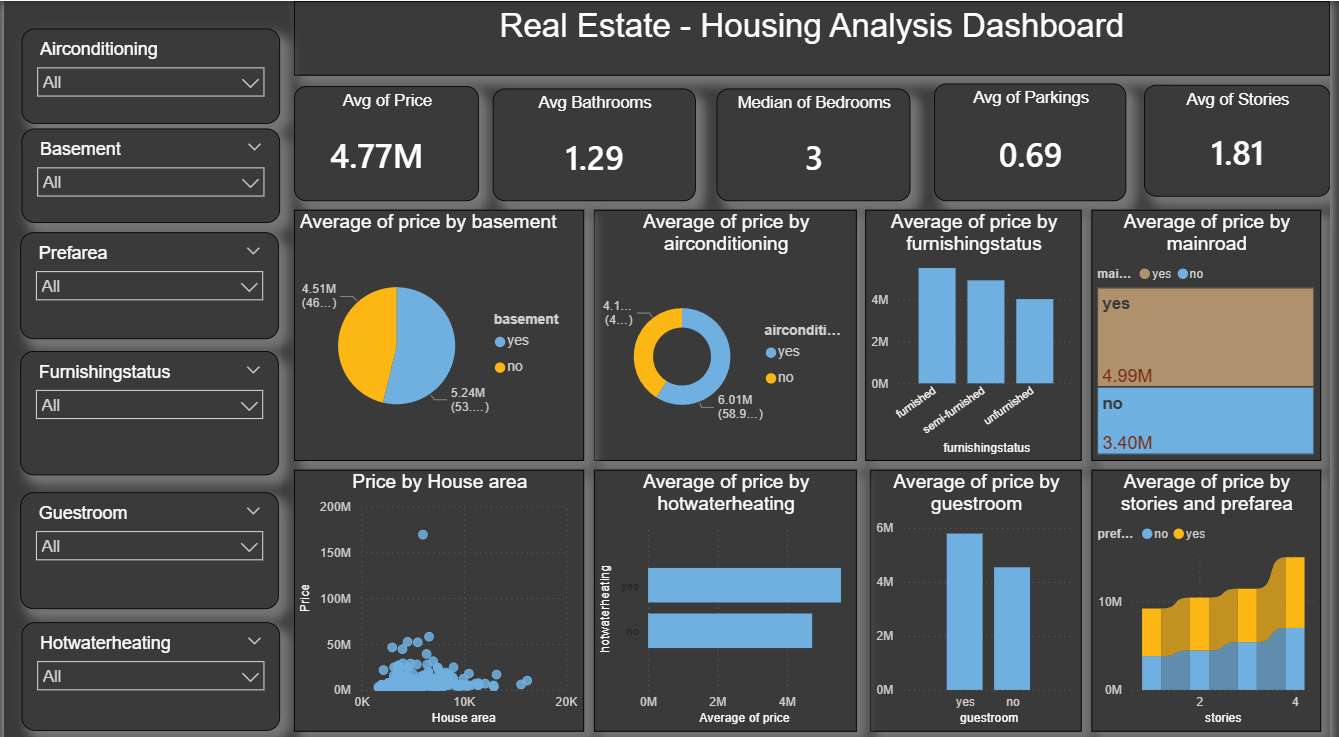

What the dashboard file says about the page in this screenshot:
{"tool":"powerbi","page":{"name":"Page 1","canvas":[1280,720],"ordinal":0},"visuals":[{"type":"textbox","box":[9.6,205.8,279.9,54.9],"z":0},{"type":"textbox","box":[280,0,1000,71.7],"z":2000},{"type":"slicer","fields":{"Values":["Housing.airconditioning"]},"box":[16.5,26.2,249.4,92.3],"z":3000},{"type":"slicer","fields":{"Values":["Housing.basement"]},"box":[16.5,122.7,249.4,91],"z":4000},{"type":"slicer","fields":{"Values":["Housing.prefarea"]},"box":[15.2,223.3,249.4,103.4],"z":5000},{"type":"slicer","fields":{"Values":["Housing.furnishingstatus"]},"box":[15.2,337.6,249.4,119.9],"z":6000},{"type":"slicer","fields":{"Values":["Housing.guestroom"]},"box":[15.2,474.1,249.4,113],"z":7000},{"type":"slicer","fields":{"Values":["Housing.hotwaterheating"]},"box":[16.5,599.5,249.4,104.7],"z":8000},{"type":"cardVisual","title":"Avg of Price ","fields":{"Data":["Avg(Housing.price)"]},"box":[280,81.9,178.5,111.3],"z":9000},{"type":"cardVisual","title":"Avg Bathrooms","fields":{"Data":["Avg(Housing.bathrooms)"]},"box":[472,84.4,195.7,108.8],"z":10000},{"type":"cardVisual","title":"Median of Bedrooms","fields":{"Data":["Median(Housing.bedrooms)"]},"box":[687.2,84.4,187.1,108.8],"z":11000},{"type":"cardVisual","title":"Avg of Parkings","fields":{"Data":["Avg(Housing.parking)"]},"box":[897.6,79.5,185.9,113.7],"z":12000},{"type":"cardVisual","title":"Avg of Stories","fields":{"Data":["Avg(Housing.stories)"]},"box":[1100.5,80.7,179.8,107.6],"z":13000},{"type":"donutChart","fields":{"Category":["Housing.airconditioning"],"Y":["Avg(Housing.price)"]},"box":[570,201.2,253.8,242.5],"z":14000},{"type":"pieChart","fields":{"Category":["Housing.basement"],"Y":["Avg(Housing.price)"]},"box":[280,201.2,280,242.5],"z":15000},{"type":"clusteredColumnChart","fields":{"Y":["Avg(Housing.price)"],"Category":["Housing.furnishingstatus"]},"box":[831.2,201.2,208.8,242.5],"z":16000},{"type":"scatterChart","fields":{"X":["Housing.area"],"Y":["Sum(Housing.price)"]},"box":[280,452.5,280,252.5],"z":17000},{"type":"clusteredColumnChart","fields":{"Category":["Housing.guestroom"],"Y":["Avg(Housing.price)"]},"box":[836.2,452.5,203.8,252.5],"z":18000},{"type":"clusteredBarChart","fields":{"Category":["Housing.hotwaterheating"],"Y":["Avg(Housing.price)"]},"box":[570,452.5,253.8,252.5],"z":19000},{"type":"treemap","fields":{"Group":["Housing.mainroad"],"Values":["Avg(Housing.price)"]},"box":[1050,201.2,221.2,242.5],"z":20000},{"type":"ribbonChart","fields":{"Category":["Housing.stories"],"Y":["Housing.price"],"Series":["Housing.prefarea"]},"box":[1050,452.5,221.2,252.5],"z":21000}]}

Visuals, with their boxes in screenshot pixels (x1, y1, x2, y2), scaled from the page's 1280x720 canvas onto the 1339x737 screenshot:
textbox: x1=10 y1=211 x2=303 y2=267
textbox: x1=293 y1=0 x2=1338 y2=73
slicer - Housing.airconditioning: x1=17 y1=27 x2=278 y2=121
slicer - Housing.basement: x1=17 y1=126 x2=278 y2=219
slicer - Housing.prefarea: x1=16 y1=229 x2=277 y2=334
slicer - Housing.furnishingstatus: x1=16 y1=346 x2=277 y2=468
slicer - Housing.guestroom: x1=16 y1=485 x2=277 y2=601
slicer - Housing.hotwaterheating: x1=17 y1=614 x2=278 y2=721
"Avg of Price " cardVisual: x1=293 y1=84 x2=480 y2=198
"Avg Bathrooms" cardVisual: x1=494 y1=86 x2=698 y2=198
"Median of Bedrooms" cardVisual: x1=719 y1=86 x2=915 y2=198
"Avg of Parkings" cardVisual: x1=939 y1=81 x2=1133 y2=198
"Avg of Stories" cardVisual: x1=1151 y1=83 x2=1338 y2=193
donutChart - Housing.airconditioning x Avg(Housing.price): x1=596 y1=206 x2=862 y2=454
pieChart - Housing.basement x Avg(Housing.price): x1=293 y1=206 x2=586 y2=454
clusteredColumnChart - Avg(Housing.price) x Housing.furnishingstatus: x1=870 y1=206 x2=1088 y2=454
scatterChart - Housing.area x Sum(Housing.price): x1=293 y1=463 x2=586 y2=722
clusteredColumnChart - Housing.guestroom x Avg(Housing.price): x1=875 y1=463 x2=1088 y2=722
clusteredBarChart - Housing.hotwaterheating x Avg(Housing.price): x1=596 y1=463 x2=862 y2=722
treemap - Housing.mainroad x Avg(Housing.price): x1=1098 y1=206 x2=1330 y2=454
ribbonChart - Housing.stories x Housing.price: x1=1098 y1=463 x2=1330 y2=722
